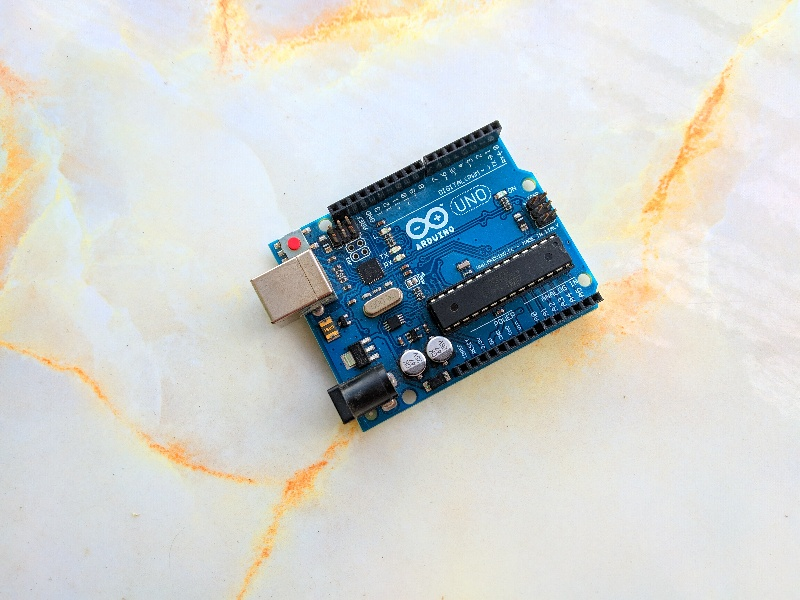Arduino UNO: (241, 110, 614, 447)
